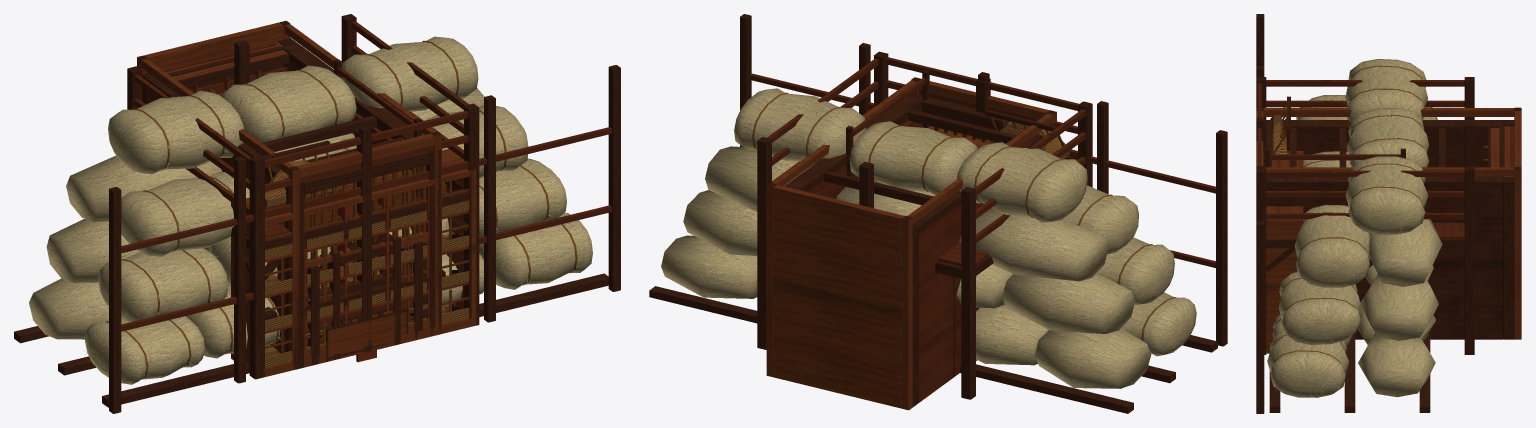
The model's file is ark_wave_b2_habitats_kit.glb.
3 renders of one model, left to right at view 1: azimuth 30°, elevation 25°; view 2: azimuth 150°, elevation 25°; view 3: azimuth 270°, elevation 25°, orthographic. The views are drawn at different scales.
Visible parts, largest first — view 1: ark_hay_bale_stack_LOD0, ark_pen_d2_mezzanine_bay_LOD0, ark_rodent_honeycomb_d3_LOD0, ark_pen_d1_carnivore_bay_LOD0, ark_aviary_d3_bay_LOD0, ark_pen_d2_ungulate_bay_LOD0, ark_pen_d2_ox_stall_LOD0, ark_bat_roost_box_d3_LOD0, ark_pen_d1_megafauna_bay_LOD0; view 2: ark_hay_bale_stack_LOD0, ark_aviary_d3_bay_LOD0, ark_pen_d2_mezzanine_bay_LOD0, ark_pen_d1_carnivore_bay_LOD0; view 3: ark_hay_bale_stack_LOD0, ark_pen_d1_carnivore_bay_LOD0, ark_pen_d2_mezzanine_bay_LOD0, ark_aviary_d3_bay_LOD0, ark_rodent_honeycomb_d3_LOD0.
Part boxes in pixels (x1,y1,x2,y2): ark_hay_bale_stack_LOD0: (14,36,620,413); ark_pen_d2_mezzanine_bay_LOD0: (127,14,479,379); ark_rodent_honeycomb_d3_LOD0: (231,149,476,376); ark_pen_d1_carnivore_bay_LOD0: (142,38,441,369); ark_aviary_d3_bay_LOD0: (137,21,441,370); ark_pen_d2_ungulate_bay_LOD0: (307,242,422,365); ark_pen_d2_ox_stall_LOD0: (320,236,400,359); ark_bat_roost_box_d3_LOD0: (319,308,408,361); ark_pen_d1_megafauna_bay_LOD0: (286,225,436,369); ark_hay_bale_stack_LOD0: (649,14,1227,413); ark_aviary_d3_bay_LOD0: (766,77,1056,410); ark_pen_d2_mezzanine_bay_LOD0: (757,51,1092,399); ark_pen_d1_carnivore_bay_LOD0: (784,94,1043,407); ark_hay_bale_stack_LOD0: (1256,14,1442,413); ark_pen_d1_carnivore_bay_LOD0: (1263,120,1514,339); ark_pen_d2_mezzanine_bay_LOD0: (1256,77,1474,354); ark_aviary_d3_bay_LOD0: (1256,107,1521,339); ark_rodent_honeycomb_d3_LOD0: (1266,151,1303,353).
Size of what is drawn, in the model's own units: 7.47 by 3.23 by 3.97.
Materials: 2 (2 with a texture image).
